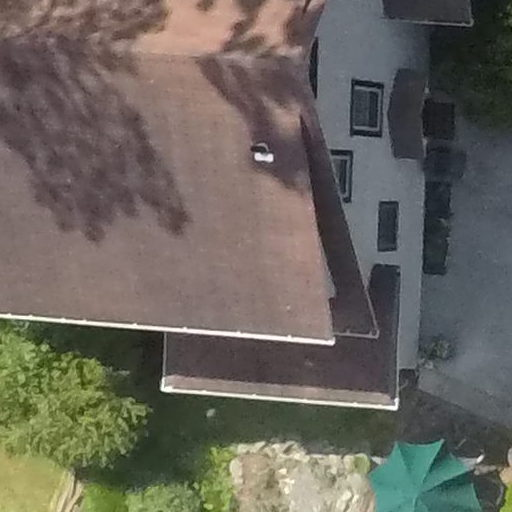umbrella: (369, 421, 487, 512)
